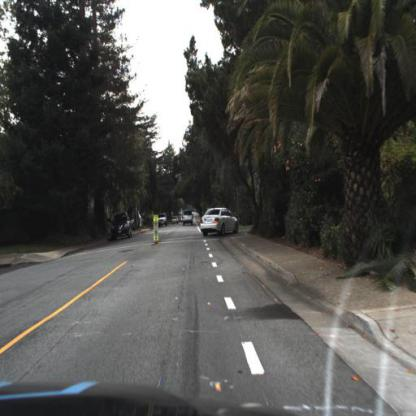car: (200, 206, 242, 241), (108, 210, 133, 244), (182, 208, 196, 230), (182, 209, 196, 230), (160, 212, 169, 230)
